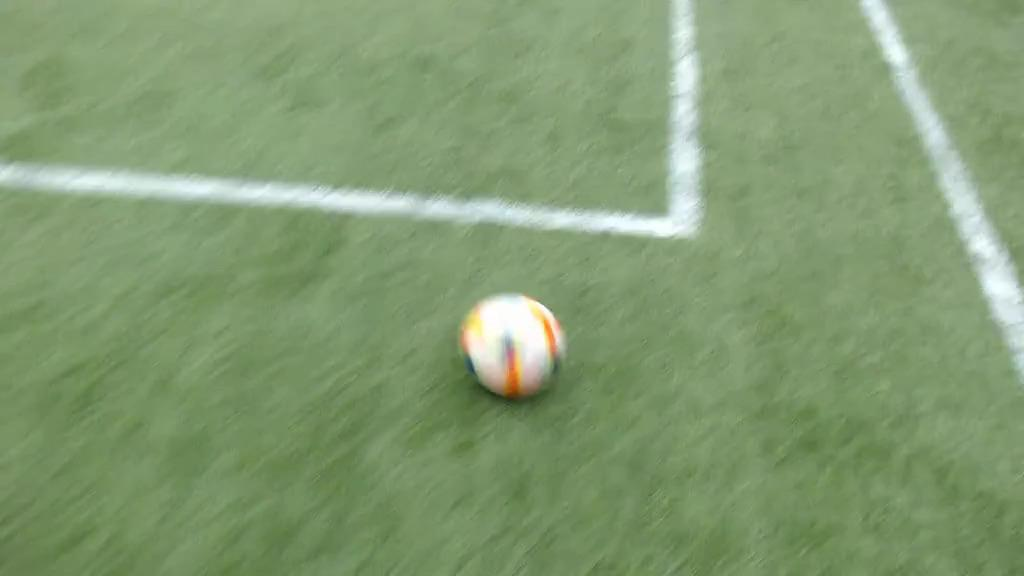ball: (460, 294, 566, 399)
